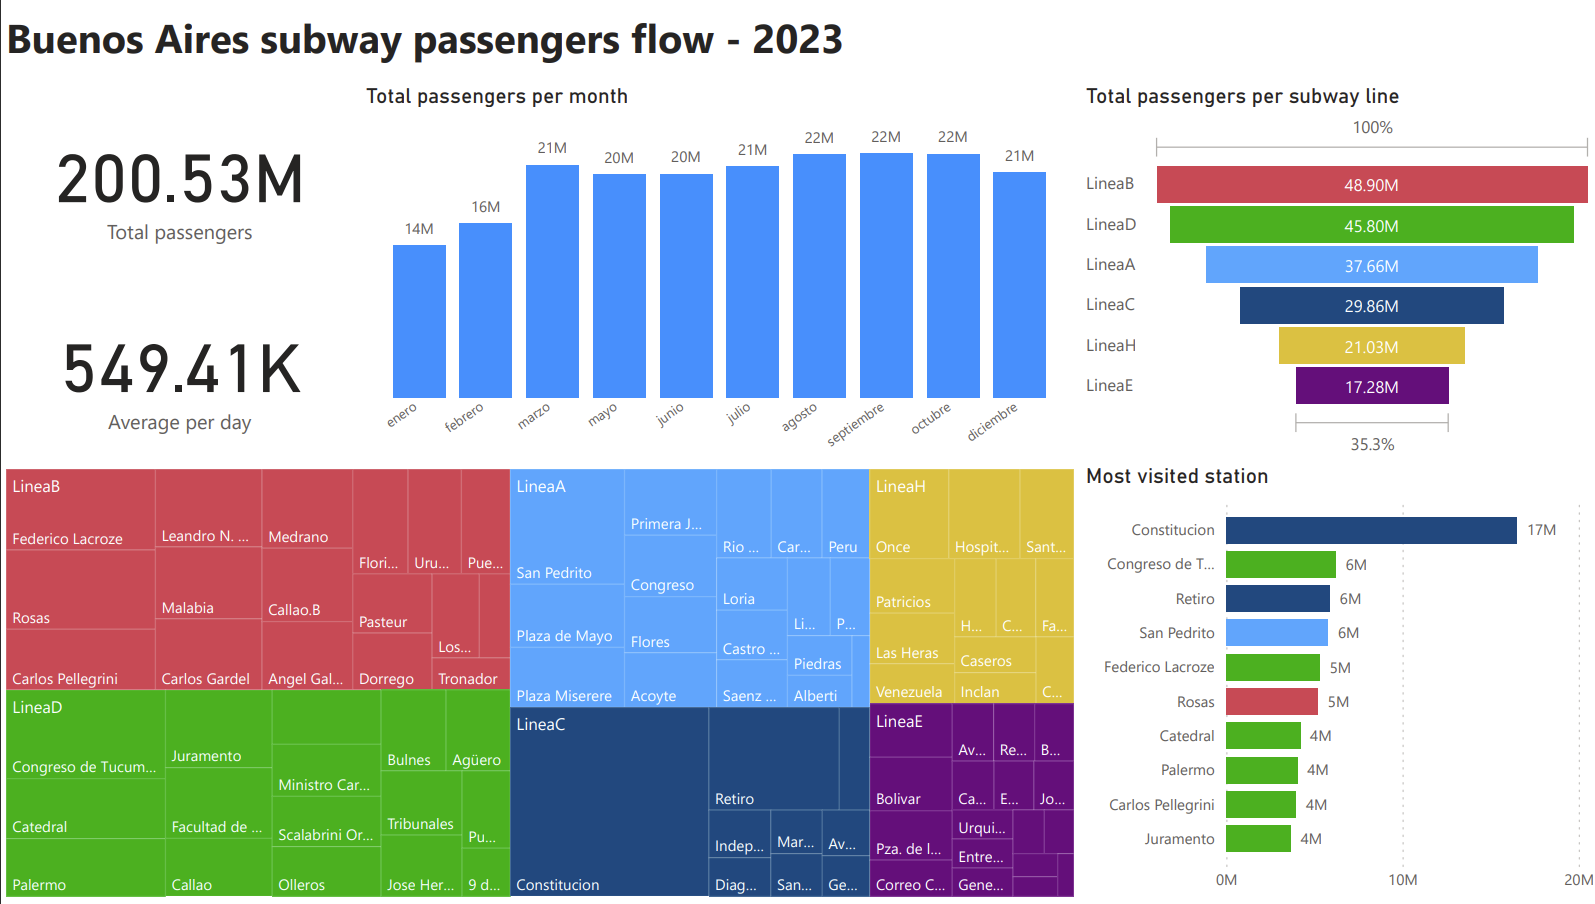

This screenshot's page, from the dashboard's own definition file:
{"tool":"powerbi","page":{"name":"Page 1","canvas":[1280,720],"ordinal":0},"visuals":[{"type":"columnChart","title":"Total passengers per month","fields":{"Category":["daily.Month Name"],"Y":["daily.total_pax"]},"box":[288,64,576,304],"z":0},{"type":"card","fields":{"Values":["daily.total_pax"]},"box":[0,64,288,160],"z":1000},{"type":"textbox","box":[0,0,864,64],"z":2000},{"type":"card","fields":{"Values":["daily.avg"]},"box":[0,224,288,144],"z":3000},{"type":"funnel","title":"Total passengers per subway line","fields":{"Y":["daily.total_pax"],"Category":["daily.linea"]},"box":[864,64,416,304],"z":4000},{"type":"treemap","fields":{"Group":["daily.linea"],"Details":["daily.estacion"],"Values":["daily.total_pax"]},"box":[0,368,864,352],"z":5000},{"type":"barChart","title":"Most visited station","fields":{"Category":["daily.estacion"],"Y":["daily.total_pax"]},"box":[864,368,416,352],"z":6000}]}

Visuals, with their boxes in screenshot pixels (x1, y1, x2, y2), scaled from the page's 1280x720 canvas onto the 1595x904 screenshot:
"Total passengers per month" columnChart: x1=359, y1=80, x2=1077, y2=462
card - daily.total_pax: x1=0, y1=80, x2=359, y2=281
textbox: x1=0, y1=0, x2=1077, y2=80
card - daily.avg: x1=0, y1=281, x2=359, y2=462
"Total passengers per subway line" funnel: x1=1077, y1=80, x2=1594, y2=462
treemap - daily.linea x daily.estacion: x1=0, y1=462, x2=1077, y2=903
"Most visited station" barChart: x1=1077, y1=462, x2=1594, y2=903
